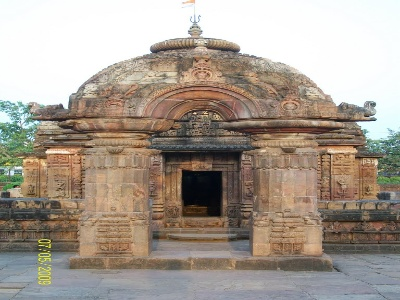amalaka: (142, 26, 250, 62)
torana: (64, 50, 350, 246)
